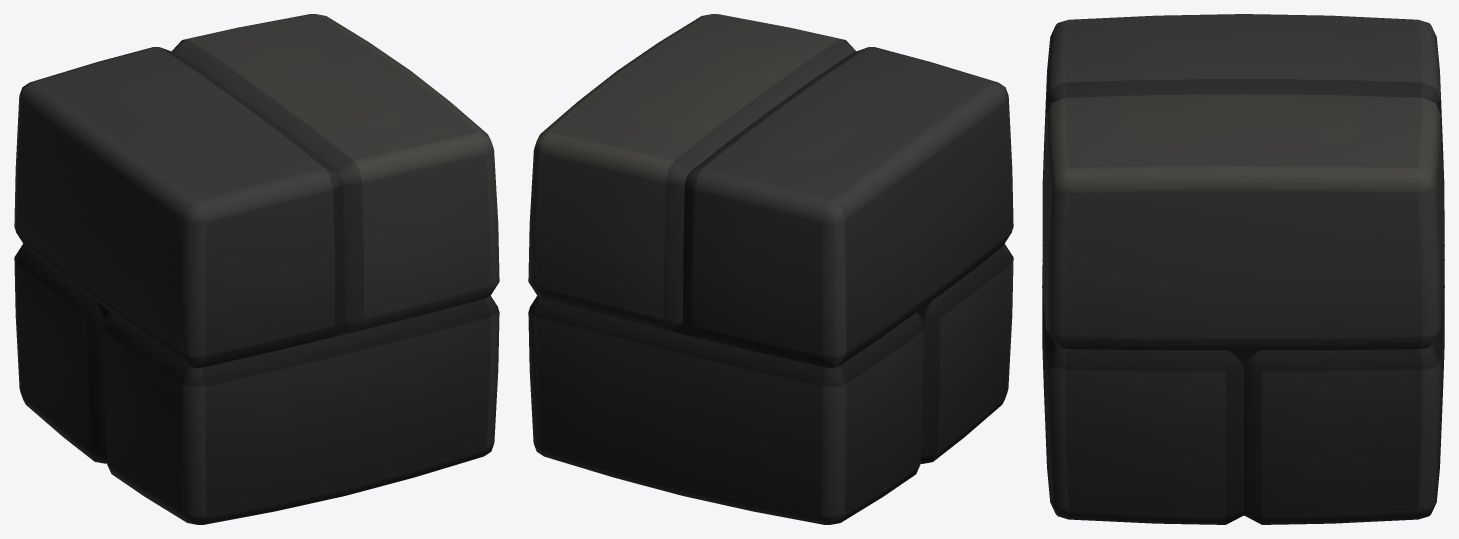
Rendered from block_brick_black_3.fbx.
The picture shows the model from 3 angles, left to right: view 1: azimuth 30°, elevation 25°; view 2: azimuth 150°, elevation 25°; view 3: azimuth 270°, elevation 25°; orthographic projection. The views are drawn at different scales.
Visible parts, largest first — view 1: block_brick_black_3_LOD0; view 2: block_brick_black_3_LOD0; view 3: block_brick_black_3_LOD0.
Part boxes in pixels (bbox=[...]): block_brick_black_3_LOD0: bbox=[14, 14, 499, 524]; block_brick_black_3_LOD0: bbox=[528, 14, 1013, 524]; block_brick_black_3_LOD0: bbox=[1042, 14, 1444, 524].
Size of what is drawn, in the model's own units: 109 by 109 by 109.
